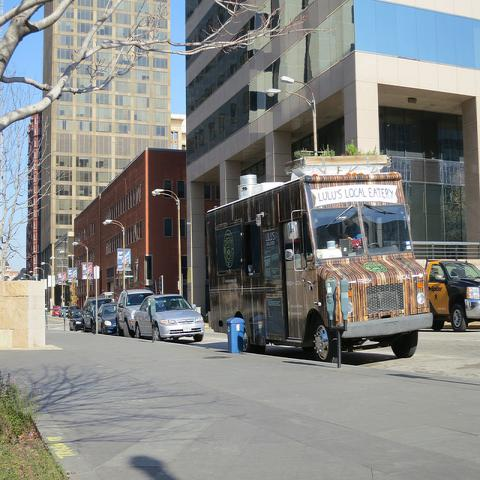car: (129, 292, 207, 346), (114, 287, 155, 338), (82, 298, 115, 334), (98, 303, 117, 334), (69, 309, 84, 331), (69, 306, 80, 319), (61, 306, 70, 318), (52, 308, 61, 317), (45, 304, 48, 313)
truck: (206, 157, 434, 363), (424, 256, 479, 333)
